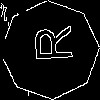R: (25, 25, 73, 63)
